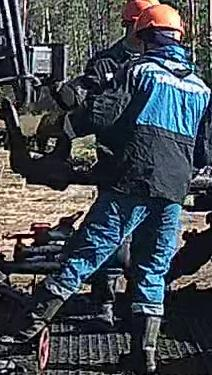gloves: (44, 69, 70, 97)
helmet: (133, 3, 184, 39), (119, 0, 164, 25)
vest: (109, 56, 211, 204)
